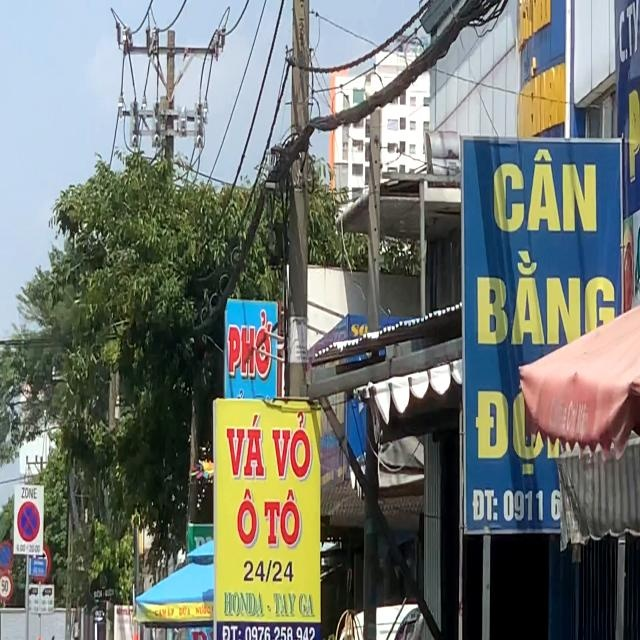bien_cam: (17, 501, 40, 542), (0, 540, 13, 571), (0, 572, 13, 600)
